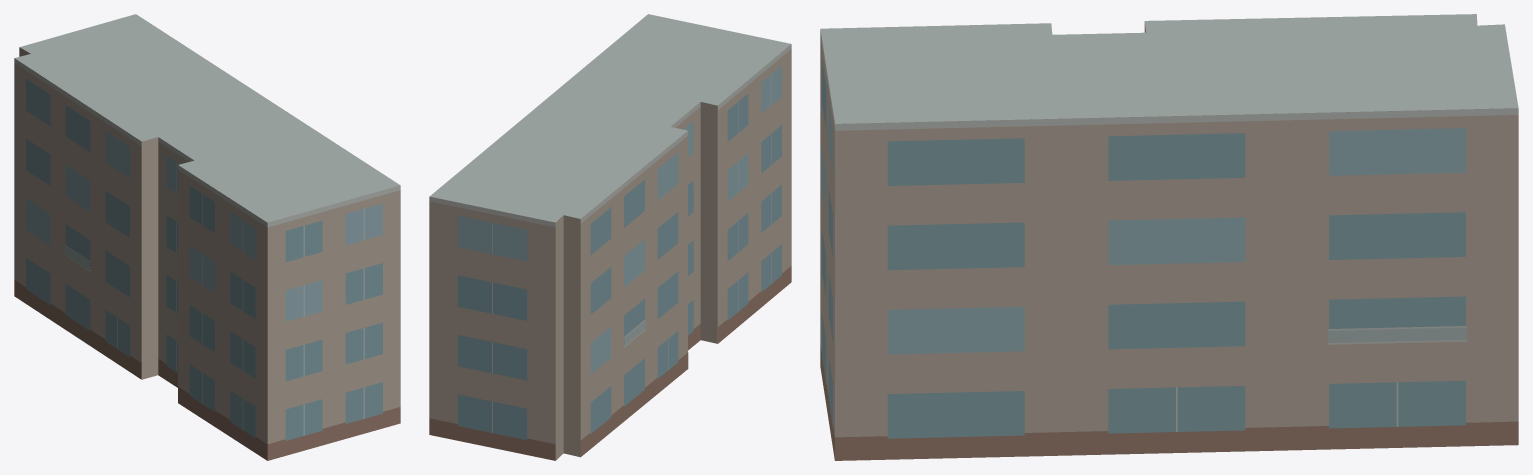
The model's file is survey-upis-33004179.glb.
3 renders of one model, left to right at view 1: azimuth 30°, elevation 25°; view 2: azimuth 150°, elevation 25°; view 3: azimuth 270°, elevation 25°, orthographic. The views are drawn at different scales.
Parts seen in each view (by area): view 1: survey-upis-33004179.tmp; view 2: survey-upis-33004179.tmp; view 3: survey-upis-33004179.tmp.
Boxes of the visible parts, left/top/right/bottom form: survey-upis-33004179.tmp: left=14, top=14, right=400, bottom=460; survey-upis-33004179.tmp: left=429, top=14, right=791, bottom=460; survey-upis-33004179.tmp: left=820, top=14, right=1518, bottom=460.
Bounding box in the file's own units: 8.48 × 12.1 × 22.74.
